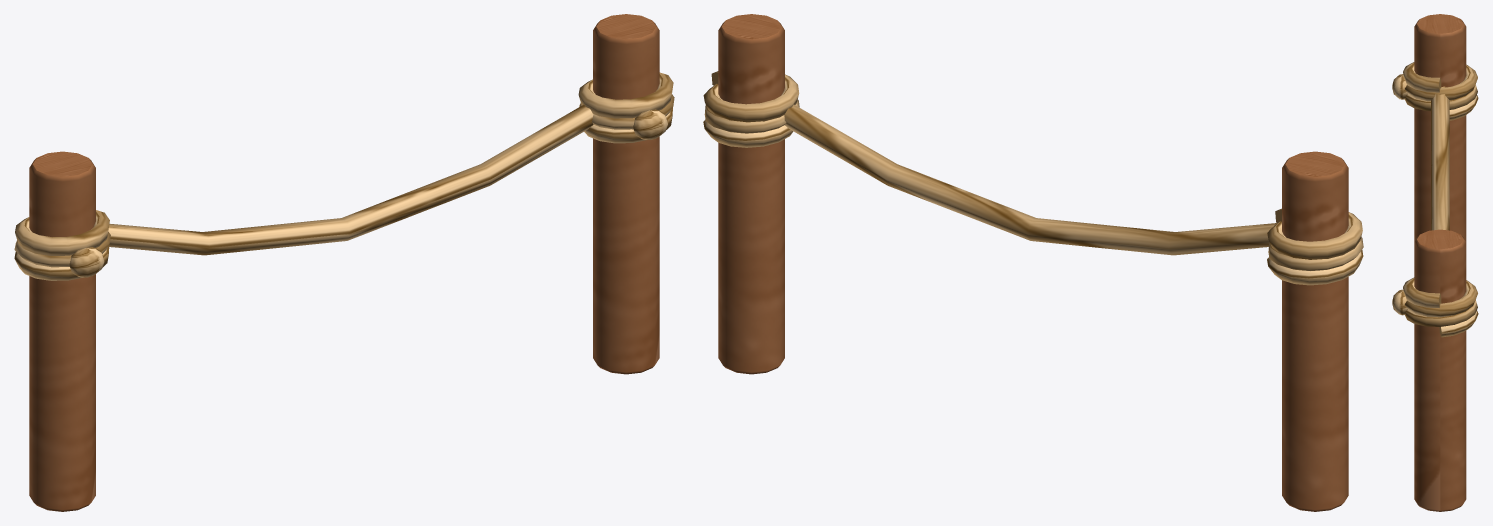
File: SM_RopeRail.glb
3 views of the same model, side by side, from view 1: azimuth 30°, elevation 25°; view 2: azimuth 150°, elevation 25°; view 3: azimuth 270°, elevation 25° (orthographic). The views are drawn at different scales.
Parts seen in each view (by area): view 1: SM_RopeRail; view 2: SM_RopeRail; view 3: SM_RopeRail.
Boxes of the visible parts, box(x1,y1,x2,y2) form: SM_RopeRail: box(14, 14, 674, 511); SM_RopeRail: box(703, 14, 1363, 511); SM_RopeRail: box(1392, 14, 1478, 511).
Size of the model in its own units: 2.02 by 1 by 0.2972.
Materials: 1 (1 with a texture image).
